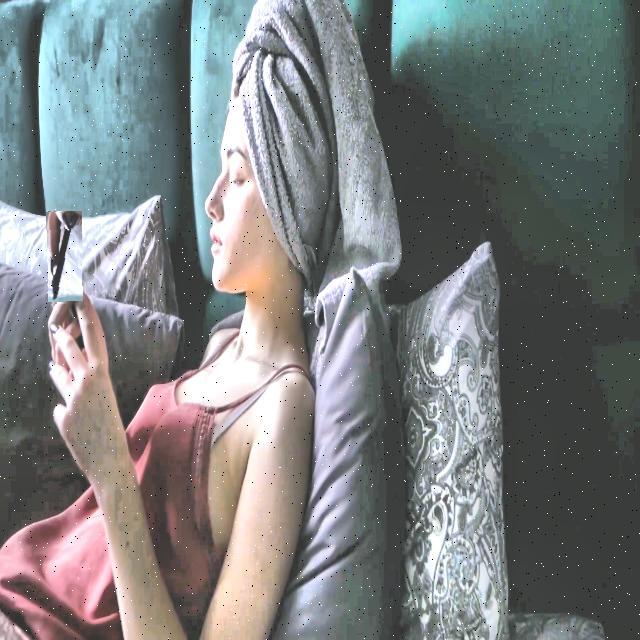Phone: (48, 211, 82, 304)
